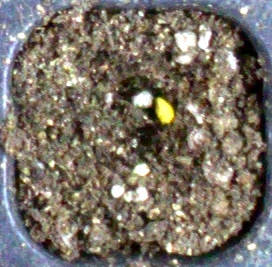pepper seed: (65, 32, 241, 158)
